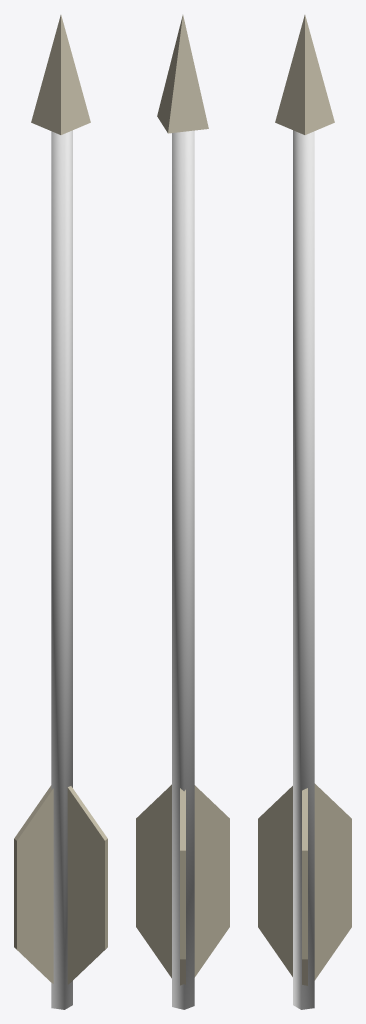
The model's file is bone_arrow.glb.
The picture shows the model from 3 angles, left to right: view 1: azimuth 90°, elevation 25°; view 2: azimuth 150°, elevation 25°; view 3: azimuth 270°, elevation 25°; orthographic projection.
Parts seen in each view (by area): view 1: bone_arrow_v0; view 2: bone_arrow_v0; view 3: bone_arrow_v0.
Part boxes in pixels (left/top/right/bottom): bone_arrow_v0: left=14, top=15, right=107, bottom=1009; bone_arrow_v0: left=136, top=15, right=229, bottom=1009; bone_arrow_v0: left=258, top=15, right=351, bottom=1009.
Size of the model in its own units: 0.055 by 0.73 by 0.0626.
